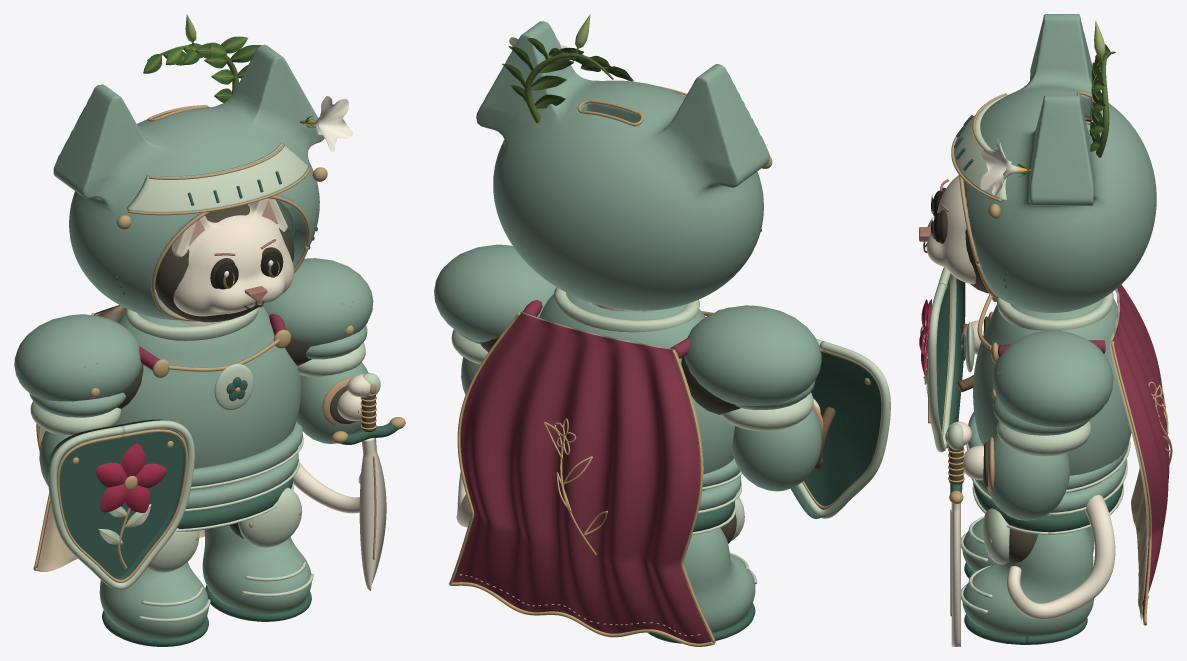
The model's file is mandevilla-guardian.v1.glb.
3 views of the same model, side by side, from view 1: azimuth 30°, elevation 25°; view 2: azimuth 150°, elevation 25°; view 3: azimuth 270°, elevation 25° (orthographic). The views are drawn at different scales.
Parts seen in each view (by area): view 1: Helmet | hollow cat-eared great helm, Armour | hollow breastplate, Armour | round oversized pauldrons, Armour | oversized sabatons, Shield | glazed shield, Kitten | small head and ears, Armour | segmented fauld (×2), Helmet | raised visor, Shield | raised border (×2), Armour | shoulder lames (×2), Armour | kneecaps, Armour | roomy gauntlets (+19 smaller); view 2: Cape | garnet textile, Helmet | hollow cat-eared great helm, Armour | round oversized pauldrons, Shield | glazed shield, Armour | roomy gauntlets, Armour | hollow breastplate, Armour | oversized sabatons, Shield | raised border, Armour | shoulder lames, Favour | living leaves, Cape | stitched edge, Armour | gorget (+5 smaller); view 3: Helmet | hollow cat-eared great helm, Armour | round oversized pauldrons, Armour | oversized sabatons, Armour | hollow breastplate, Cape | garnet textile, Armour | roomy gauntlets, Kitten | escaped curled tail, Armour | segmented fauld (×2), Armour | shoulder lames (×2), Shield | raised border, Shield | glazed shield, Kitten | small head and ears (+22 smaller).
Part boxes in pixels (x1,y1,x2,y2): Helmet | hollow cat-eared great helm: (53, 44, 324, 320); Armour | hollow breastplate: (114, 292, 300, 468); Armour | round oversized pauldrons: (14, 258, 373, 401); Armour | oversized sabatons: (99, 525, 311, 638); Shield | glazed shield: (47, 419, 184, 579); Kitten | small head and ears: (172, 198, 293, 316); Armour | segmented fauld (×2): (177, 422, 302, 531); Helmet | raised visor: (125, 143, 308, 212); Shield | raised border (×2): (48, 420, 194, 590); Armour | shoulder lames (×2): (29, 325, 367, 434); Armour | kneecaps: (147, 487, 302, 572); Armour | roomy gauntlets: (39, 362, 368, 485); Cape | garnet textile: (453, 312, 711, 643); Helmet | hollow cat-eared great helm: (476, 21, 769, 310); Armour | round oversized pauldrons: (434, 244, 821, 405); Shield | glazed shield: (791, 351, 881, 518); Armour | roomy gauntlets: (461, 357, 821, 491); Armour | hollow breastplate: (539, 292, 735, 490); Armour | oversized sabatons: (684, 528, 755, 632); Shield | raised border: (796, 338, 890, 518); Armour | shoulder lames: (451, 329, 813, 431); Favour | living leaves: (502, 37, 633, 108); Cape | stitched edge: (449, 312, 715, 643); Armour | gorget: (554, 287, 699, 332); Helmet | hollow cat-eared great helm: (963, 14, 1156, 312); Armour | round oversized pauldrons: (992, 330, 1113, 426); Armour | oversized sabatons: (962, 518, 1093, 635); Armour | hollow breastplate: (973, 298, 1131, 492); Cape | garnet textile: (1112, 284, 1169, 618); Armour | roomy gauntlets: (987, 435, 1069, 520); Kitten | escaped curled tail: (1007, 495, 1115, 619); Armour | segmented fauld (×2): (968, 412, 1129, 531); Armour | shoulder lames (×2): (993, 398, 1091, 456); Shield | raised border: (928, 267, 956, 452); Shield | glazed shield: (936, 275, 965, 448); Kitten | small head and ears: (926, 175, 976, 284).
Bounding box in the file's own units: 0.6672 × 1 × 0.3895.
